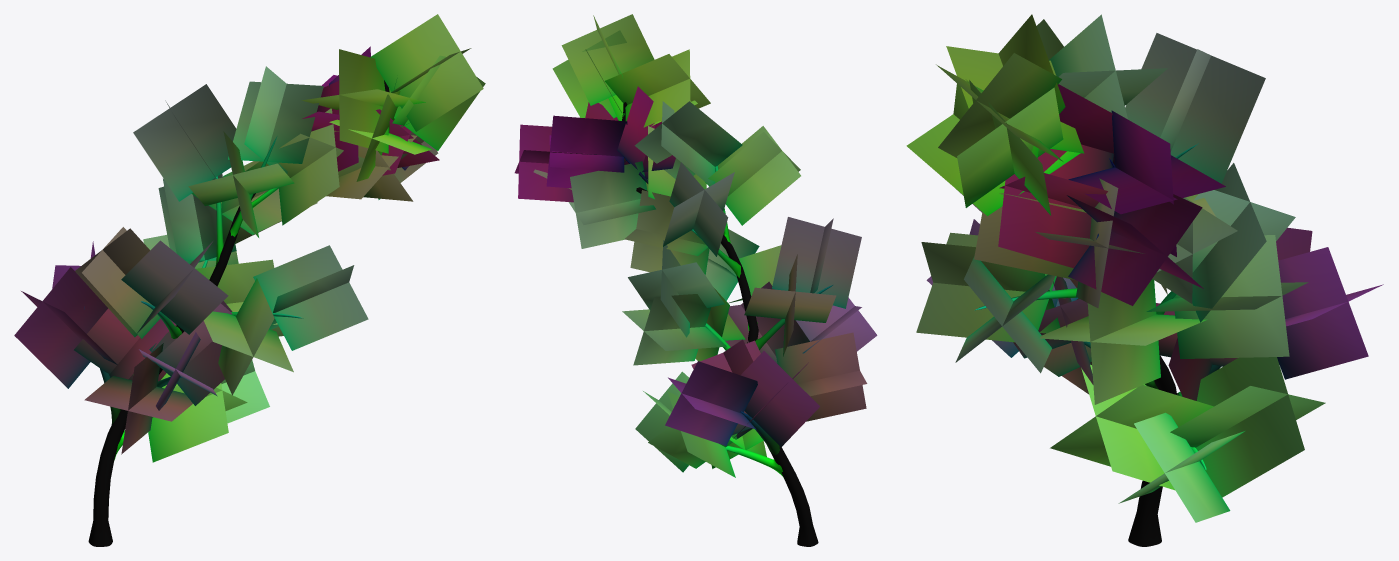
File: URP_P5_Tree_6_LOD_0.fbx
3 views of the same model, side by side, from view 1: azimuth 30°, elevation 25°; view 2: azimuth 150°, elevation 25°; view 3: azimuth 270°, elevation 25° (orthographic). The views are drawn at different scales.
Visible parts, largest first — view 1: Tree_6_LOD_0; view 2: Tree_6_LOD_0; view 3: Tree_6_LOD_0.
Part boxes in pixels (x1,y1,x2,y2): Tree_6_LOD_0: [14, 14, 485, 546]; Tree_6_LOD_0: [514, 14, 877, 546]; Tree_6_LOD_0: [906, 14, 1383, 546].
Bounding box in the file's own units: 418 × 509 × 323.
